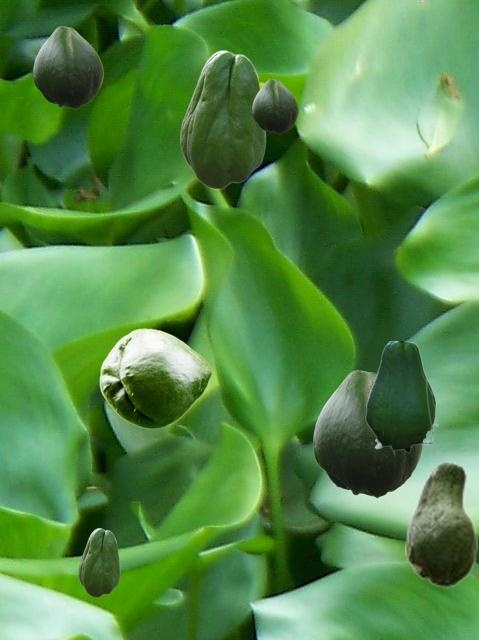sayote: (313, 370, 421, 497), (180, 50, 265, 188), (99, 328, 211, 428), (405, 461, 476, 587), (365, 341, 437, 454), (33, 26, 102, 108), (78, 528, 119, 596), (252, 79, 297, 133)
